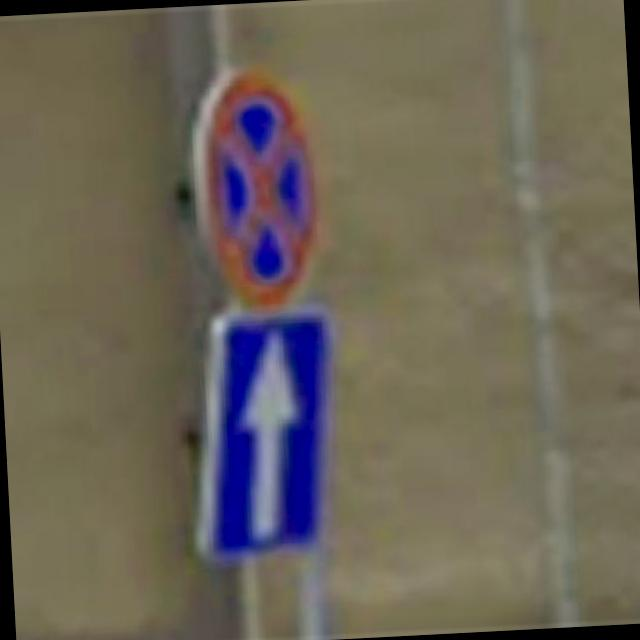Zakaz zatrzymywania sie: (190, 62, 327, 314)
